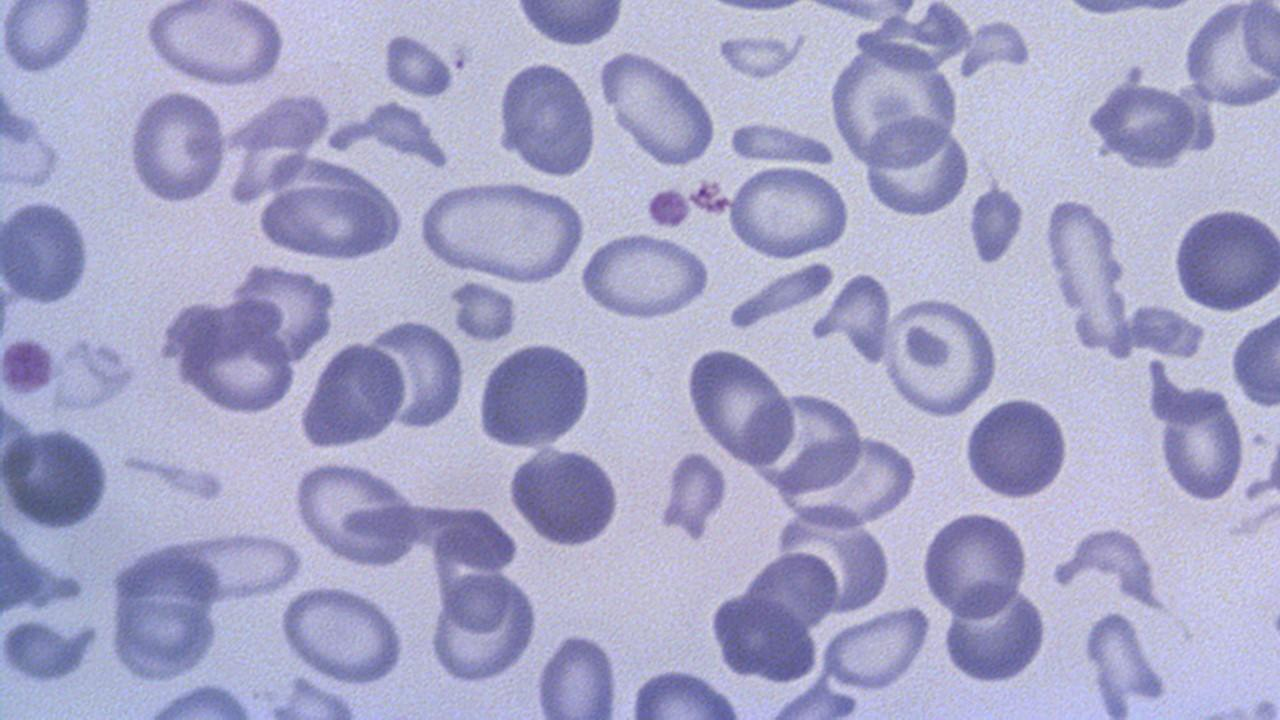RBC: (413, 176, 586, 286), (824, 42, 960, 170), (878, 294, 1002, 420), (596, 48, 720, 168), (249, 175, 408, 267), (422, 567, 541, 686), (291, 458, 419, 568), (778, 430, 918, 530), (278, 582, 410, 686), (684, 344, 798, 464), (473, 338, 595, 450), (170, 312, 299, 417), (294, 336, 406, 454), (961, 390, 1076, 504), (503, 444, 625, 551), (2, 420, 116, 534), (141, 2, 288, 89), (918, 509, 1033, 619), (576, 231, 712, 322), (125, 87, 229, 206), (1170, 203, 1280, 315), (497, 57, 597, 180), (725, 164, 853, 260), (938, 582, 1052, 686), (862, 115, 973, 221), (1081, 71, 1199, 170), (369, 316, 466, 431), (170, 526, 307, 605), (1180, 0, 1280, 106), (2, 194, 93, 310), (818, 604, 934, 694), (107, 593, 223, 681), (1043, 194, 1125, 316), (1157, 392, 1245, 505), (532, 628, 622, 718), (2, 79, 69, 195), (46, 334, 138, 414), (0, 1, 94, 75), (660, 446, 730, 540), (712, 18, 810, 82), (507, 2, 631, 48), (379, 29, 457, 100), (1229, 307, 1279, 412), (966, 179, 1025, 267), (722, 120, 838, 164), (446, 278, 522, 345)
